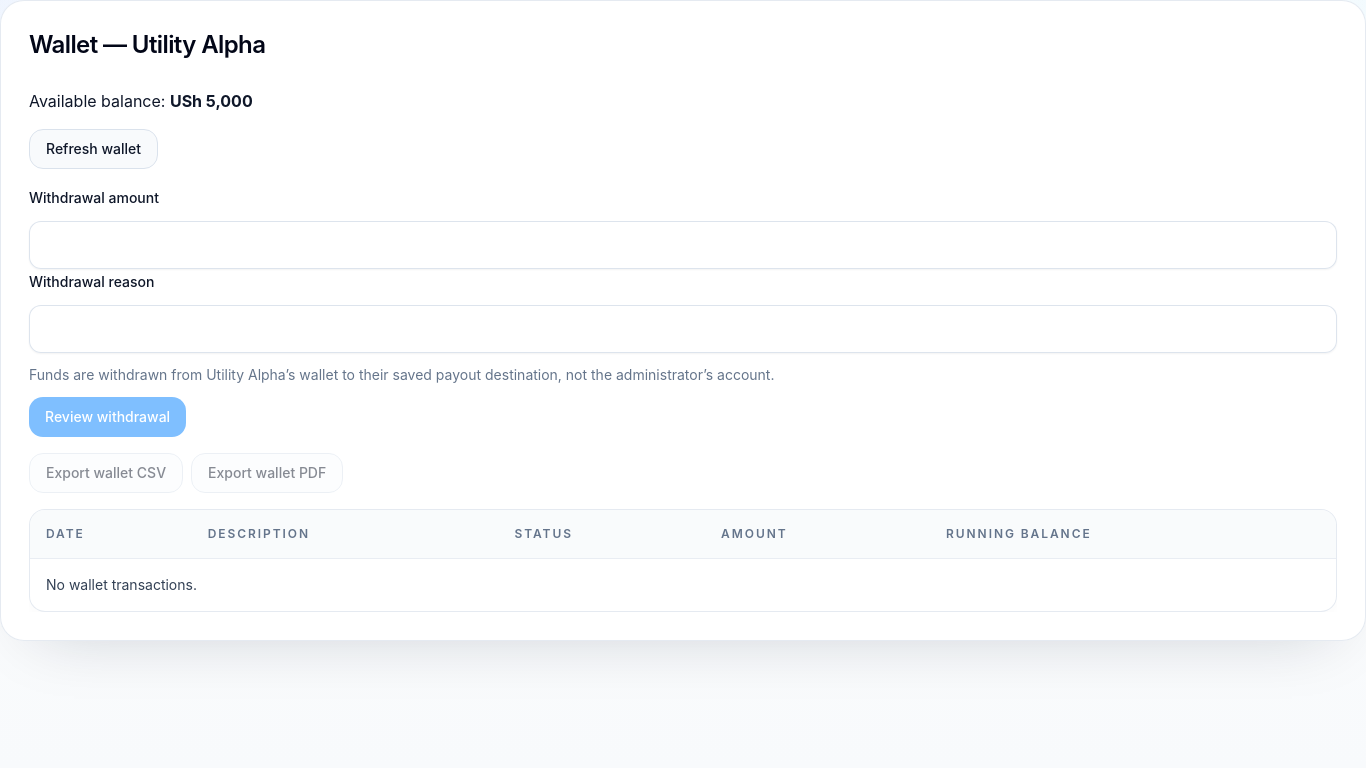
requires confirmation and submits once to the explicit admin owner endpoint
Type "1000" into the number field labelled "Withdrawal amount".
click(683, 245); type("1000")  # box left=29, top=221, right=1337, bottom=269
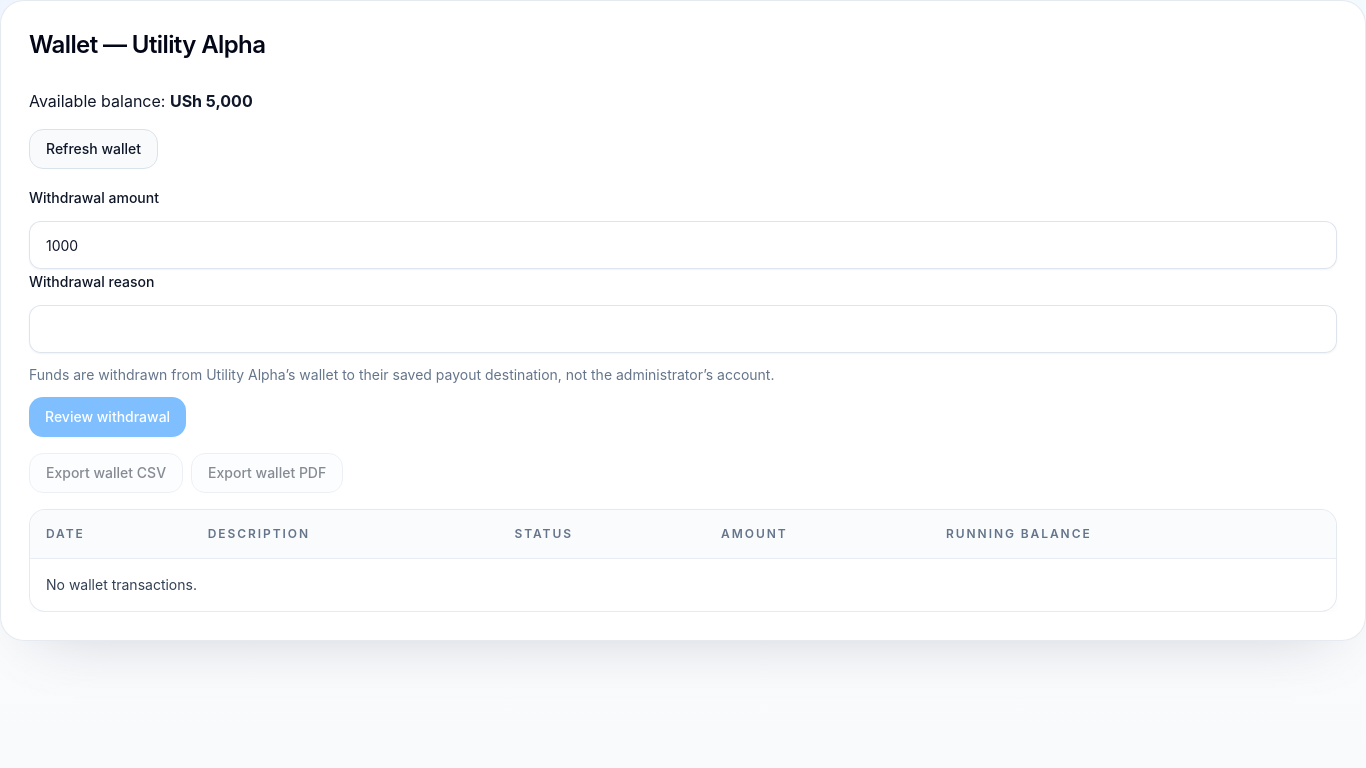
Type " Meter repair " into the field labelled "Withdrawal reason".
click(683, 329); type(" Meter repair ")  # box left=29, top=305, right=1337, bottom=353
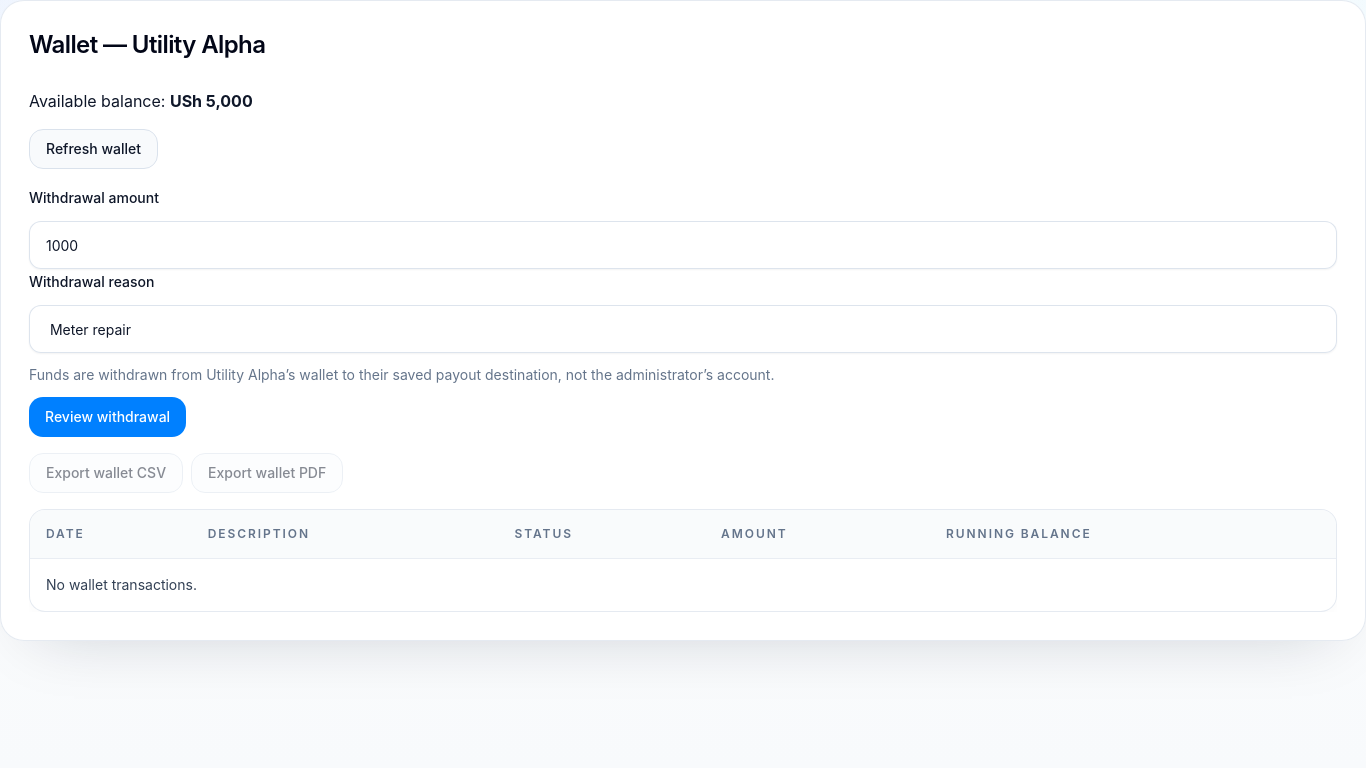
Click the button "Review withdrawal".
click(108, 417)  # box left=29, top=397, right=186, bottom=437
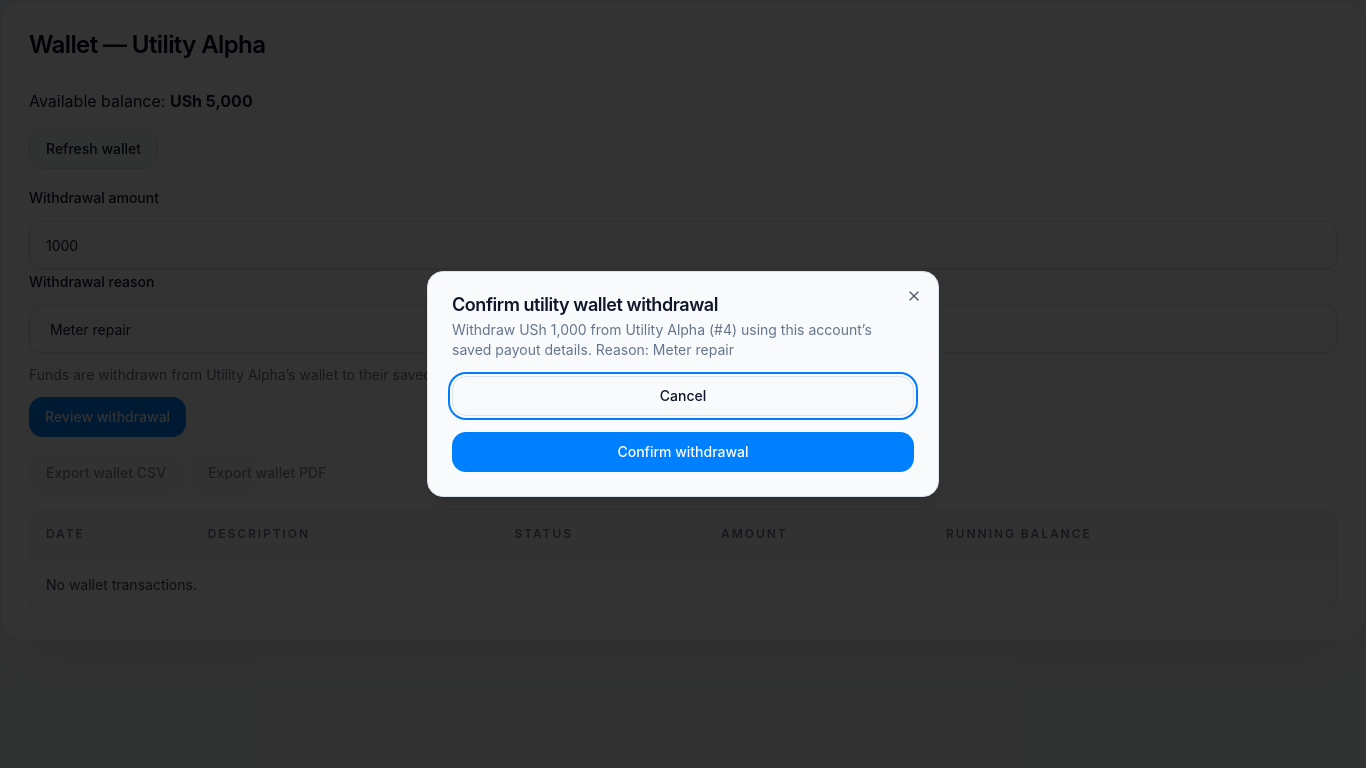
Click the button "Confirm withdrawal".
click(683, 452)  # box left=452, top=432, right=914, bottom=472
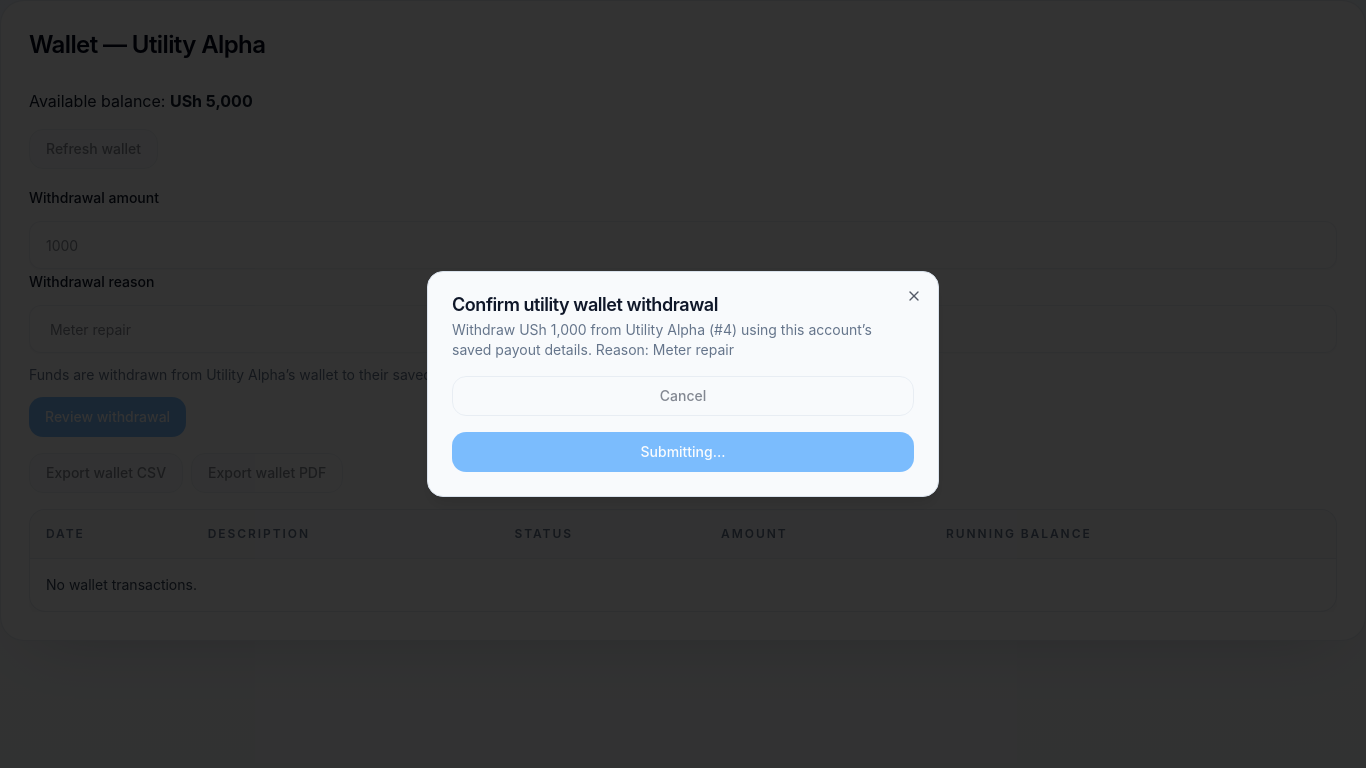
Click the button named "Confirm withdrawal".
click(683, 452)  # box left=452, top=432, right=914, bottom=472
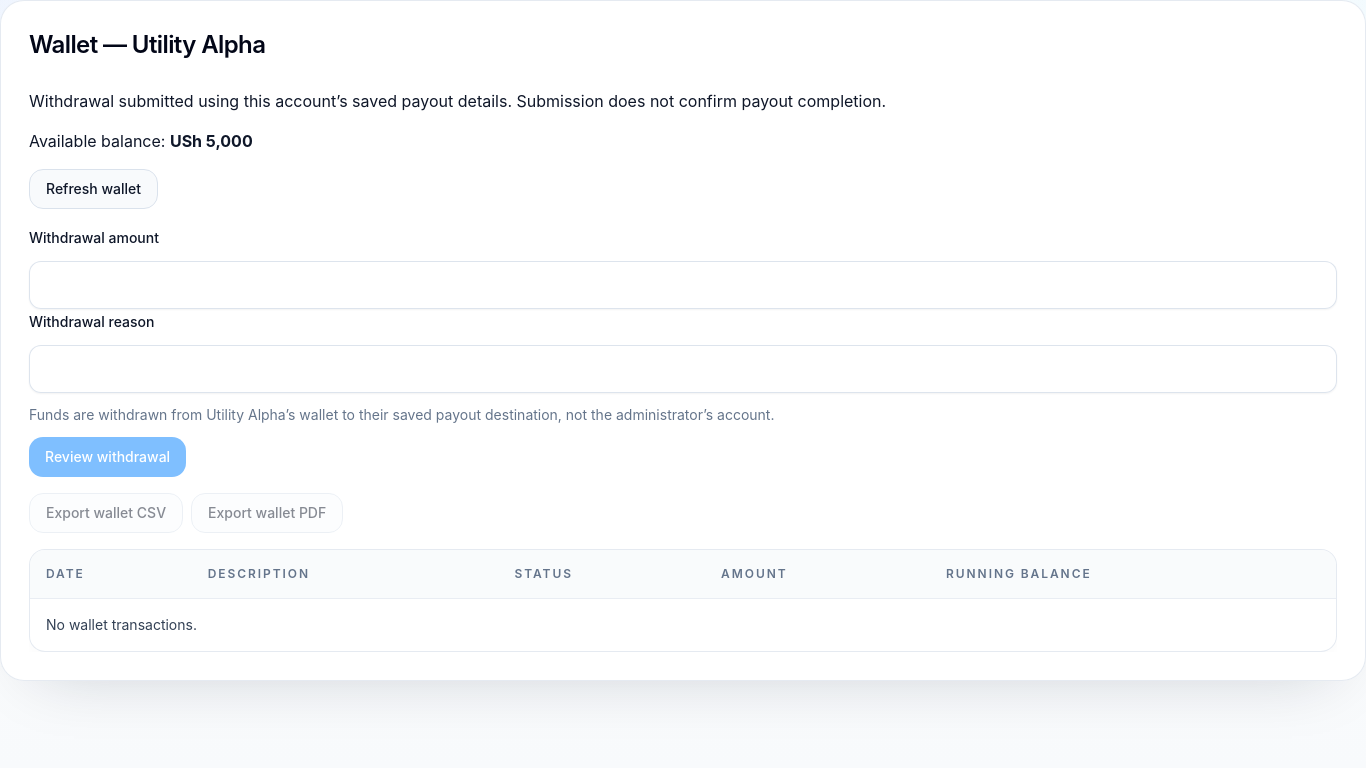
Expected: the text "Withdrawal submitted" is shown, left=29, top=91, right=886, bottom=111
